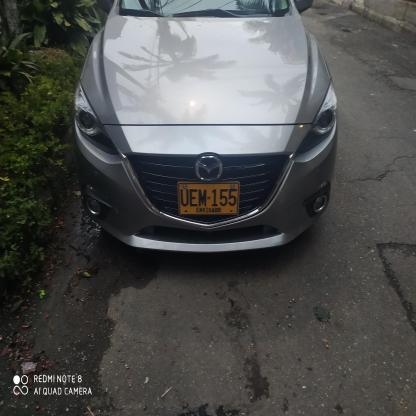placa: (175, 179, 243, 218)
